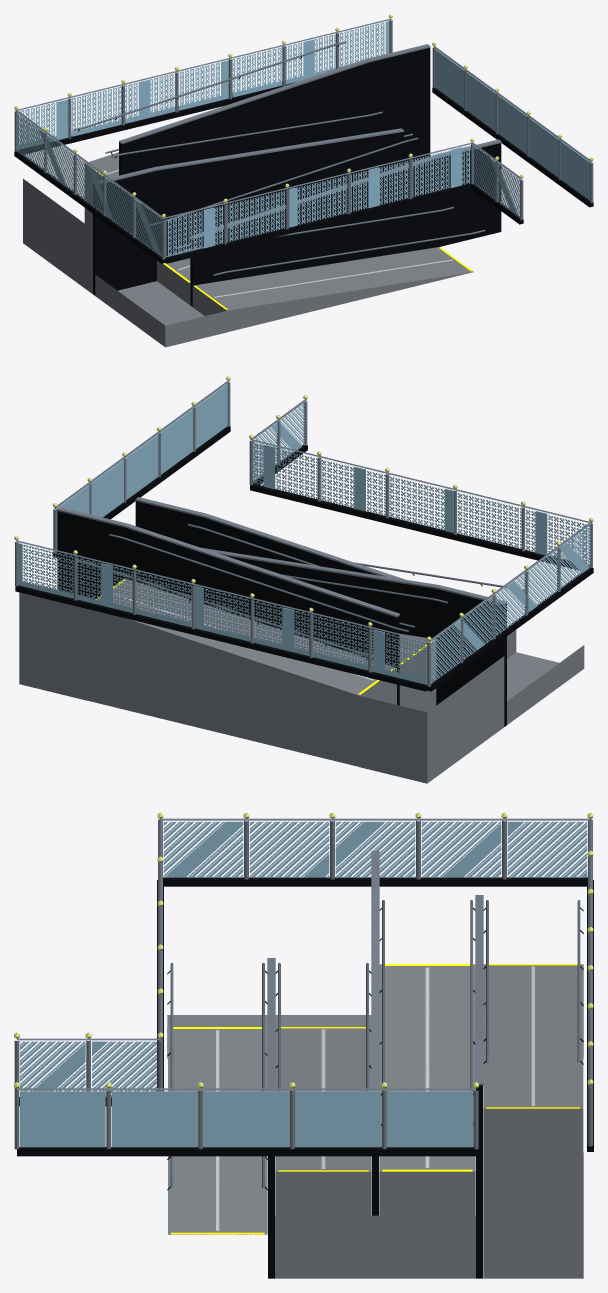
File: tt_struct_pool_ramp.glb
3 renders of one model, top to bottom at view 1: azimuth 30°, elevation 25°; view 2: azimuth 150°, elevation 25°; view 3: azimuth 270°, elevation 25°, orthographic. The views are drawn at different scales.
Parts seen in each view (by area): view 1: Ramp_Walls, Guard_Pane_Scissor, Ramp_Legs, Ramp_Landings, Guard_Kerb, Spine_Caps, Guard_Posts, Handrail, Guard_Rail, Court_Lines, Guard_Ball_Finials; view 2: Guard_Pane_Scissor, Ramp_Legs, Ramp_Walls, Ramp_Landings, Guard_Kerb, Spine_Caps, Guard_Posts, Guard_Rail, Handrail, Guard_Ball_Finials; view 3: Ramp_Legs, Guard_Pane_Scissor, Ramp_Landings, Guard_Kerb, Guard_Rail, Guard_Posts, Spine_Caps, Handrail, Ramp_Walls, Court_Lines, Court_Line_Amber, Guard_Ball_Finials.
Part boxes in pixels (x1,y1,x2,y2): Ramp_Walls: (93,48,501,306); Guard_Pane_Scissor: (17,21,590,257); Ramp_Legs: (84,152,473,331); Ramp_Landings: (23,178,227,347); Guard_Kerb: (14,82,593,263); Spine_Caps: (98,44,501,239); Guard_Posts: (14,20,593,259); Handrail: (74,41,485,275); Guard_Rail: (15,18,592,218); Court_Lines: (106,169,453,297); Guard_Ball_Finials: (14,14,593,217); Guard_Pane_Scissor: (18,384,590,684); Ramp_Legs: (87,578,516,766); Ramp_Walls: (57,501,506,726); Ramp_Landings: (19,592,584,783); Guard_Kerb: (15,426,593,691); Spine_Caps: (57,497,507,617); Guard_Posts: (15,382,592,686); Guard_Rail: (16,381,592,642); Handrail: (77,524,524,656); Guard_Ball_Finials: (14,376,593,640); Ramp_Legs: (168,964,583,1234); Guard_Pane_Scissor: (20,821,591,1147); Ramp_Landings: (167,964,583,1278); Guard_Kerb: (17,877,593,1156); Guard_Rail: (17,818,592,1090); Guard_Posts: (14,820,592,1149); Spine_Caps: (267,851,483,1091); Handrail: (170,900,580,1188); Ramp_Walls: (268,1085,482,1278); Court_Lines: (216,966,534,1230); Court_Line_Amber: (171,964,579,1234); Guard_Ball_Finials: (14,812,593,1088).
Size of what is drawn, in the model's own units: 9.3 by 3.16 by 8.36.
9 materials, 6 textured.
